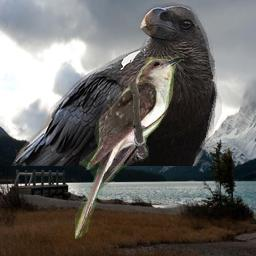Crow: (10, 1, 222, 166)
Cuckoo: (75, 56, 184, 239)
